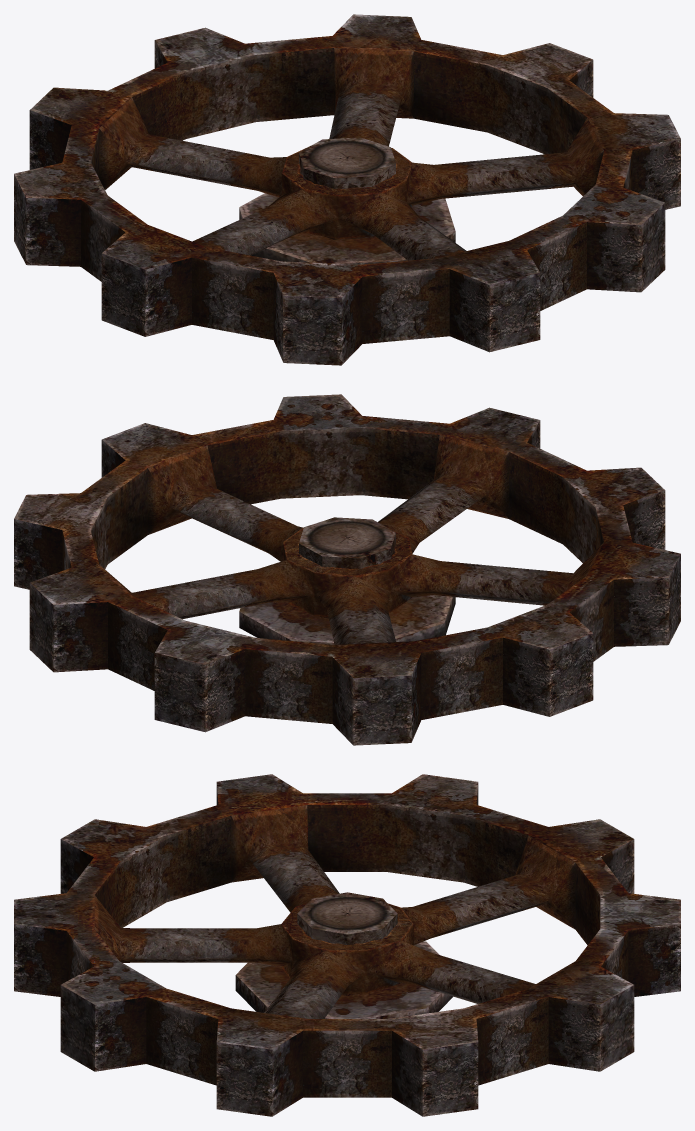
Rendered from cogwheel_large.dae.
The picture shows the model from 3 angles, top to bottom: view 1: azimuth 30°, elevation 25°; view 2: azimuth 150°, elevation 25°; view 3: azimuth 270°, elevation 25°; orthographic projection.
Visible parts, largest first — view 1: polySurface16, pCylinder6; view 2: polySurface16, pCylinder6; view 3: polySurface16, pCylinder6.
Boxes of the visible parts, bbox=[...] form: polySurface16: bbox=[14, 14, 680, 365]; pCylinder6: bbox=[239, 137, 455, 264]; polySurface16: bbox=[14, 394, 680, 745]; pCylinder6: bbox=[239, 517, 455, 644]; polySurface16: bbox=[14, 774, 680, 1116]; pCylinder6: bbox=[235, 892, 452, 1018].
Bounding box in the file's own units: 2.92 × 0.3892 × 2.98.
